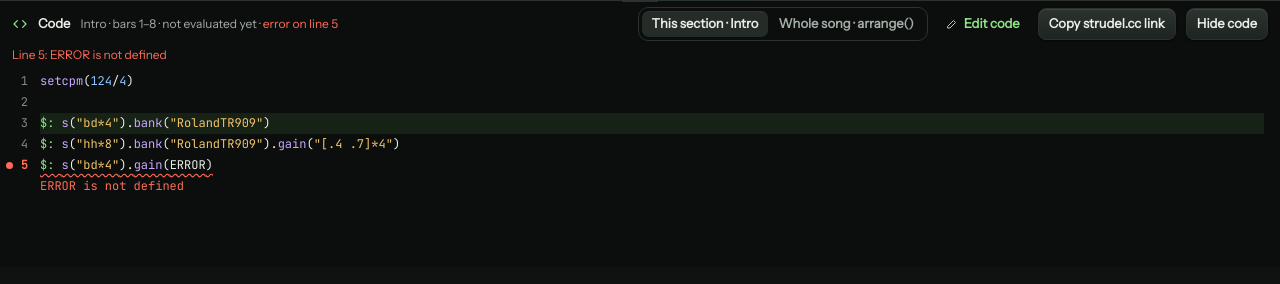
CodeDrawer › should show an evaluation error under its line and in the status
Click the radio button labelled "Whole song · arrange()" at (846, 24), box 768,11 -> 924,37
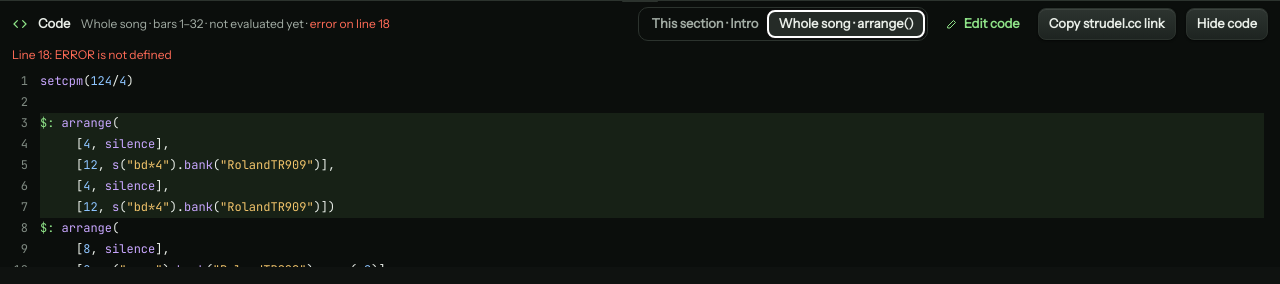
Expected: the text "Line 18: ERROR is not defined" is shown, 12,47 -> 172,62
Expected: the text "error on line 18" is shown, 310,16 -> 390,31
